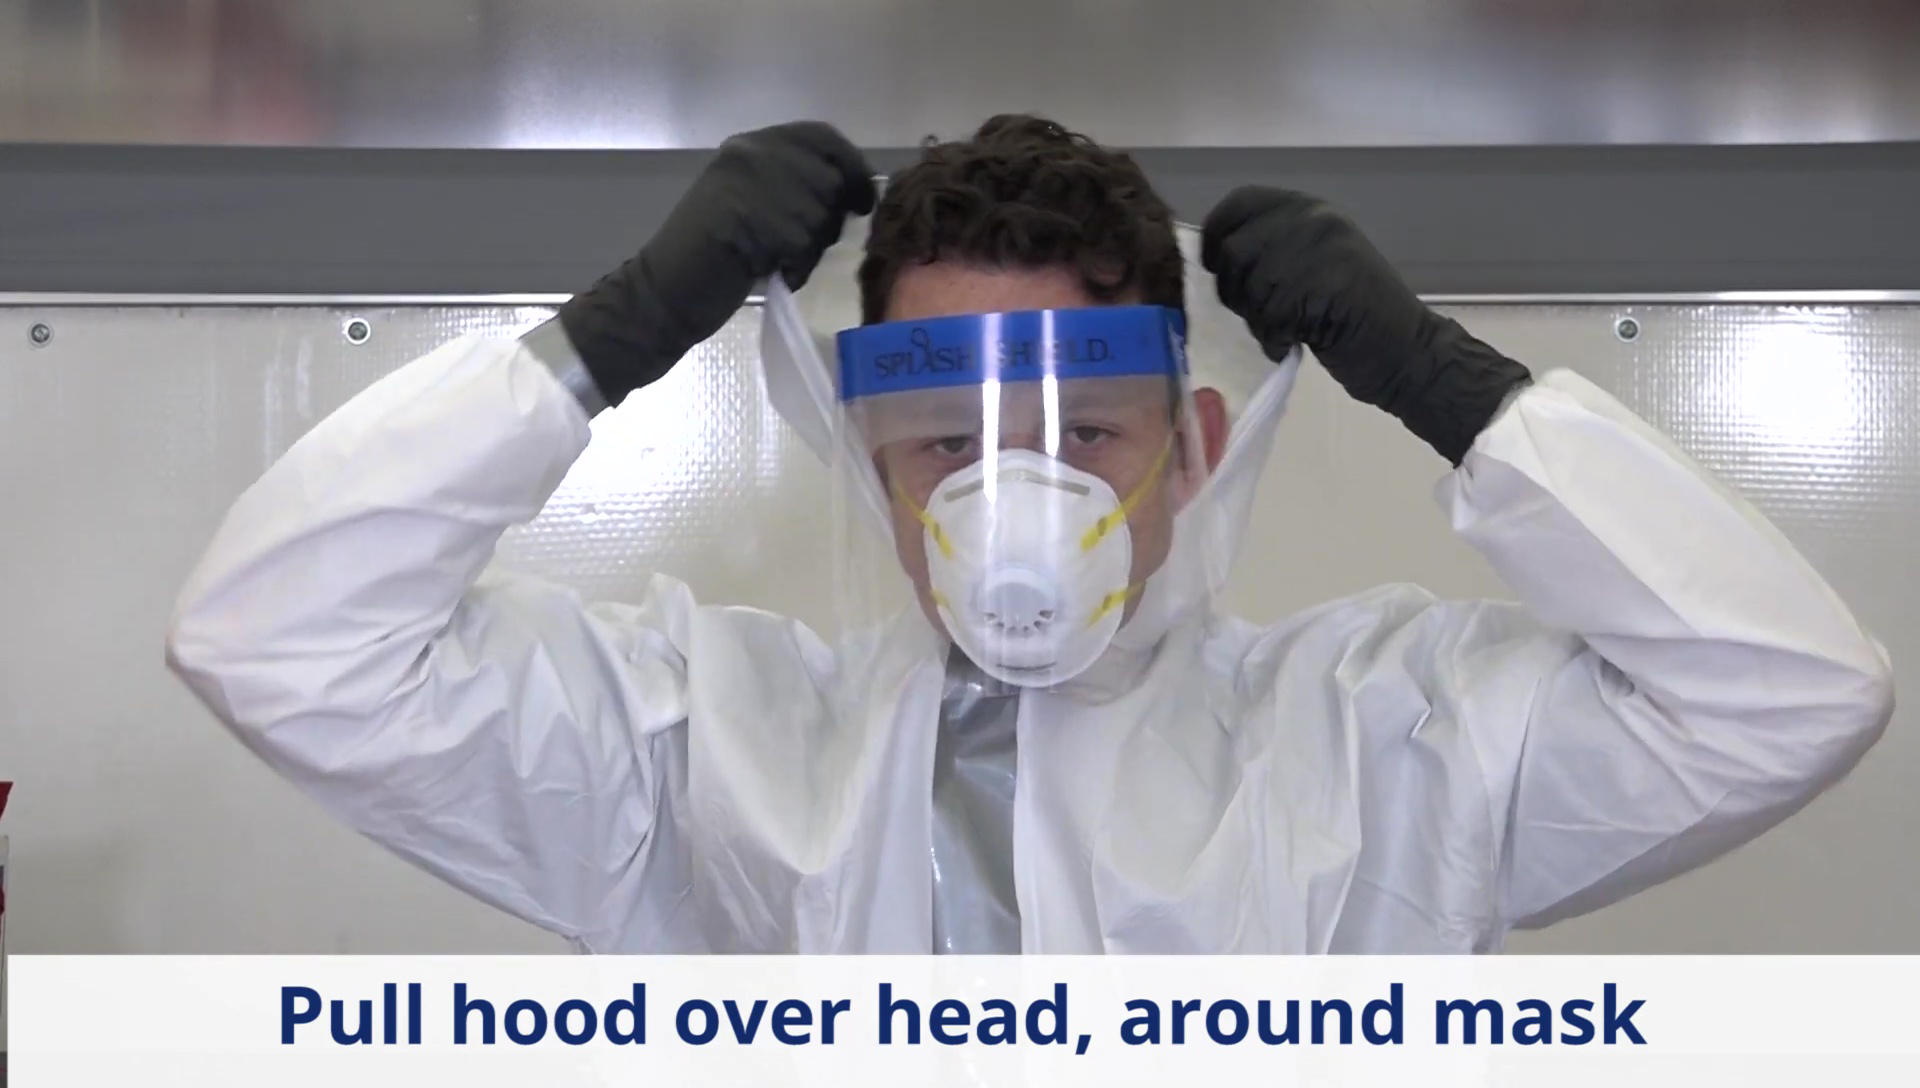Coverall: (161, 333, 1897, 948)
Face_Shield: (820, 307, 1232, 713)
Gloves: (556, 119, 879, 410), (1197, 178, 1526, 459)
with_mask: (902, 420, 1137, 683)
